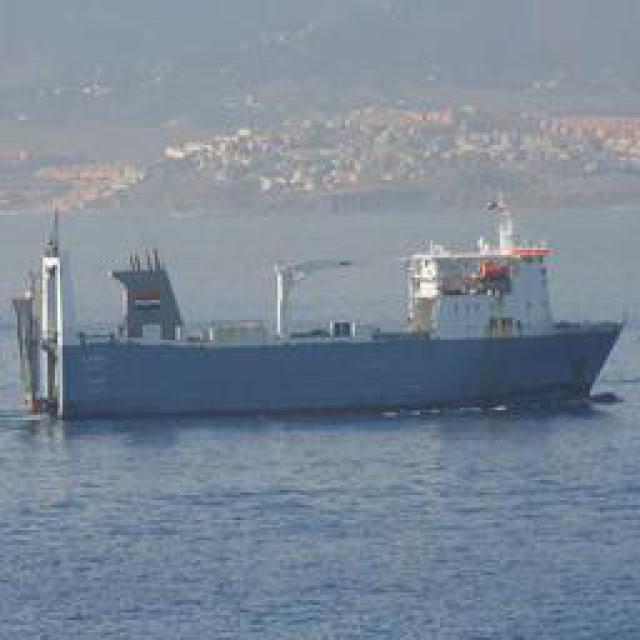Ship: (52, 196, 630, 424)
